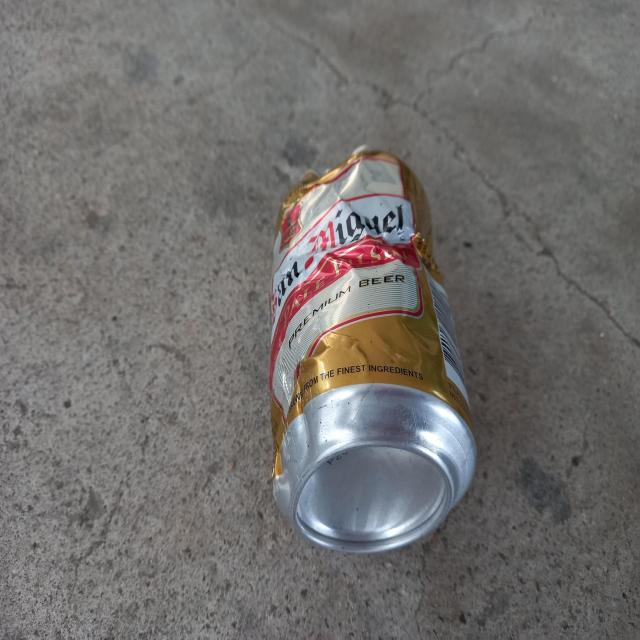can: (270, 148, 477, 553)
